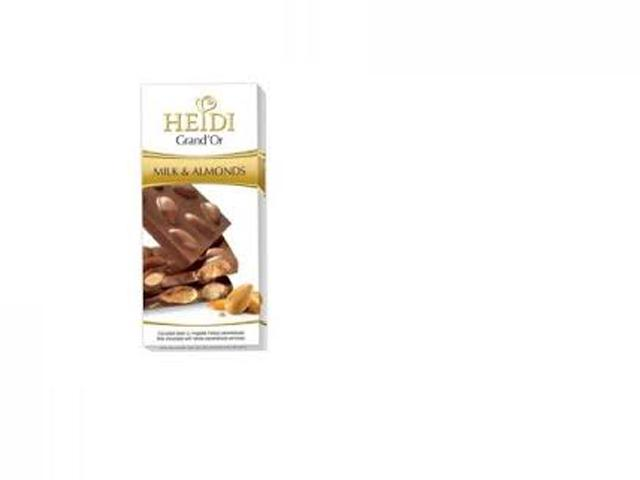chocolate: (112, 66, 287, 346)
